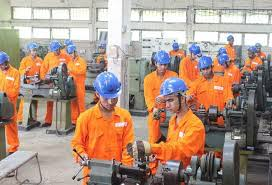Person_wearing_helmet: (92, 70, 122, 96), (160, 76, 188, 102), (153, 49, 171, 65), (195, 57, 212, 69)
